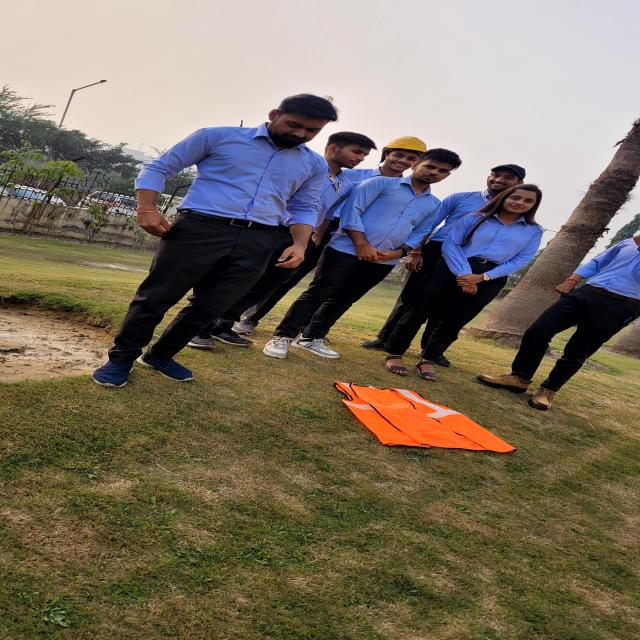no jacket: (320, 136, 434, 260)
unsafe: (96, 93, 332, 399), (271, 149, 461, 371), (199, 130, 370, 358), (369, 164, 525, 366), (388, 185, 541, 382), (482, 225, 640, 408)
